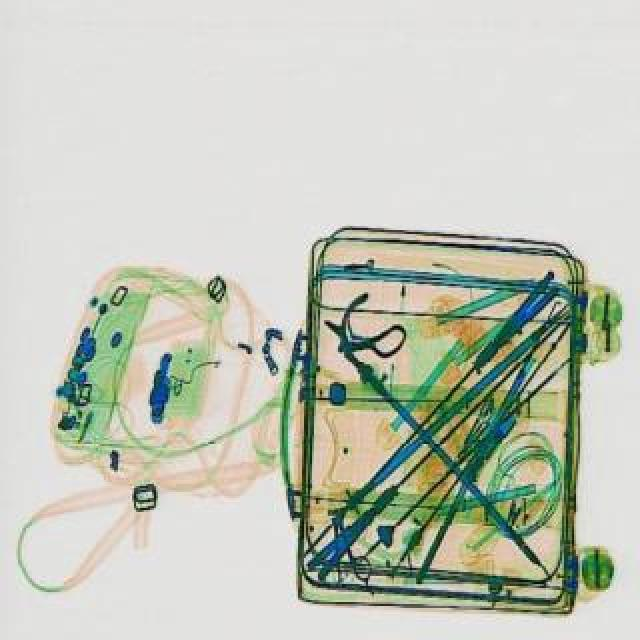pliers: (314, 510, 374, 586)
wrench: (464, 264, 568, 368)
